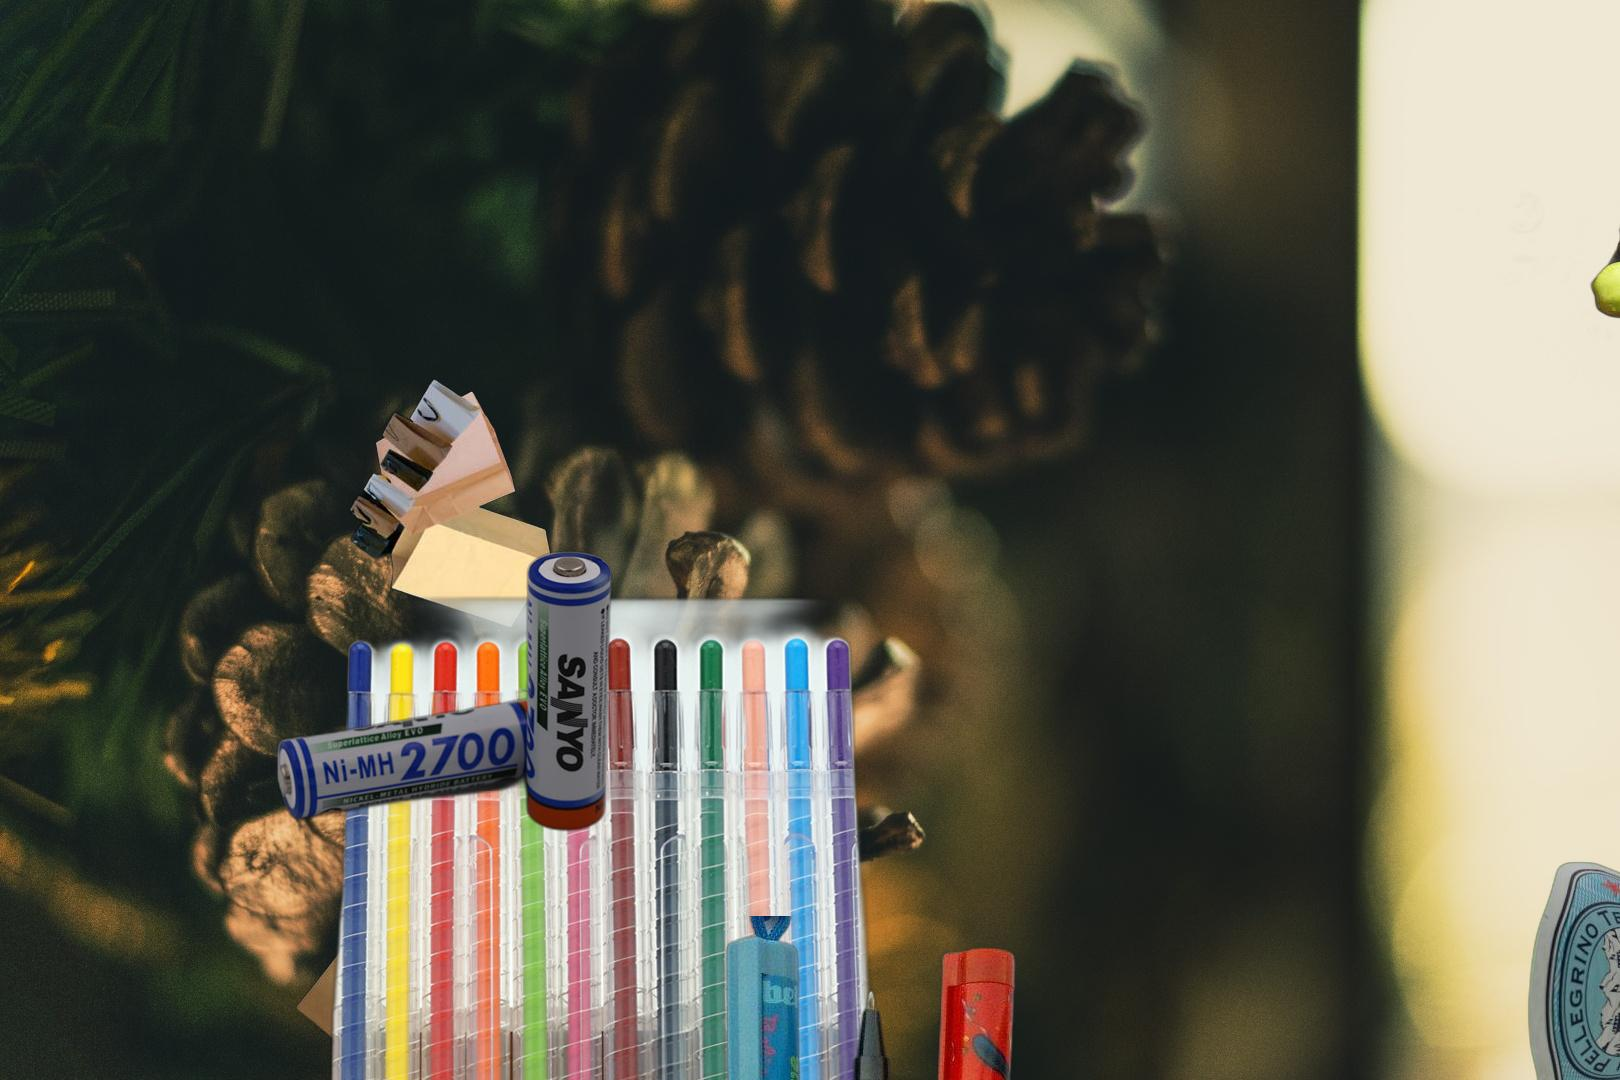battery: (272, 548, 616, 835)
biological: (1455, 180, 1620, 342)
glass: (1525, 859, 1620, 1080)
paper-bag: (347, 376, 553, 630), (113, 929, 409, 1080)
penholder: (290, 552, 890, 1080), (722, 916, 1019, 1080)
